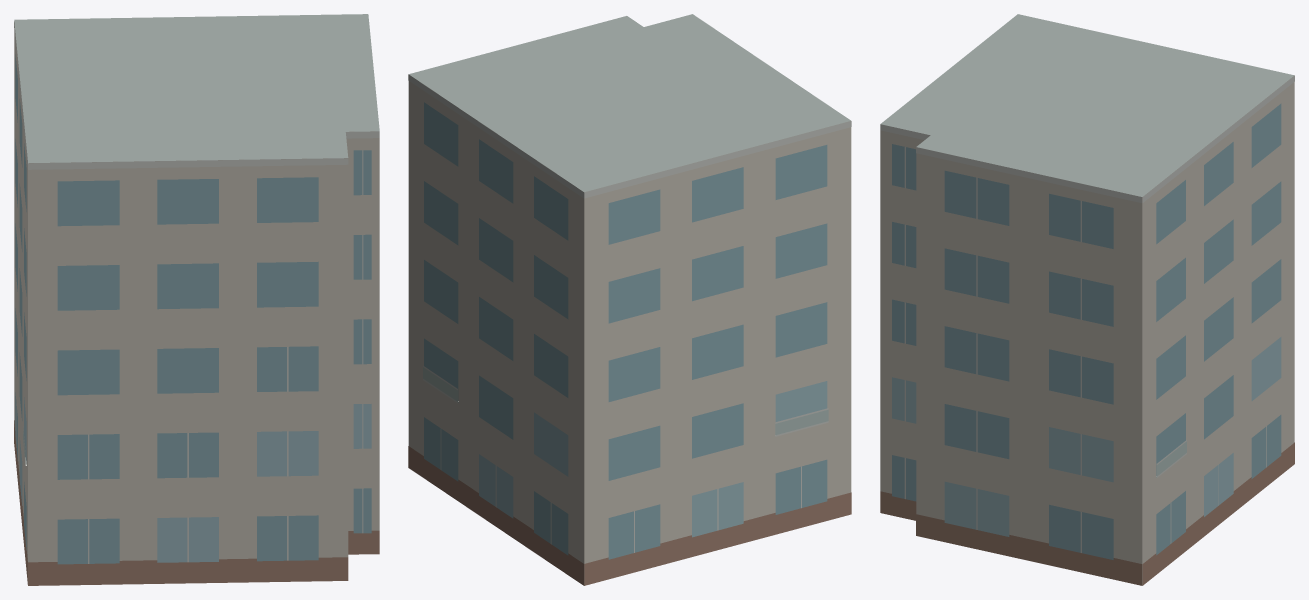
Rendered from survey-upis-32660079.glb.
3 renders of one model, left to right at view 1: azimuth 30°, elevation 25°; view 2: azimuth 150°, elevation 25°; view 3: azimuth 270°, elevation 25°, orthographic. The views are drawn at different scales.
Visible parts, largest first — view 1: survey-upis-32660079.tmp; view 2: survey-upis-32660079.tmp; view 3: survey-upis-32660079.tmp.
Boxes of the visible parts, x1,y1,x2,y2 form: survey-upis-32660079.tmp: (14, 14, 379, 585); survey-upis-32660079.tmp: (408, 14, 851, 585); survey-upis-32660079.tmp: (880, 14, 1294, 585).
Bounding box in the file's own units: 15.46 × 15.3 × 14.79.
